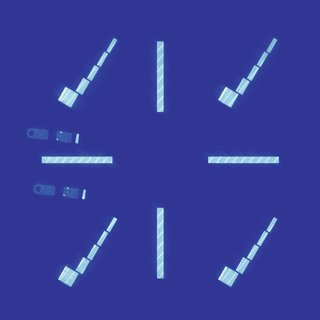overheated: (59, 88, 66, 100), (222, 91, 224, 96), (218, 278, 221, 280)
